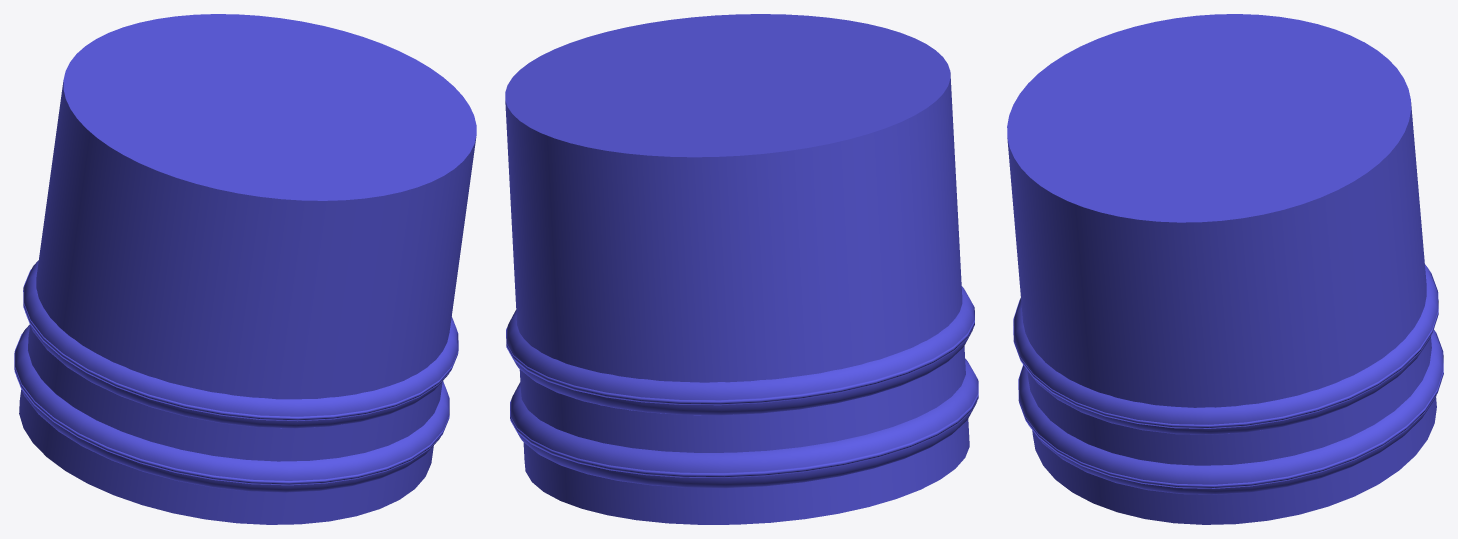
File: bombilla184.obj
3 renders of one model, left to right at view 1: azimuth 30°, elevation 25°; view 2: azimuth 150°, elevation 25°; view 3: azimuth 270°, elevation 25°, orthographic. The views are drawn at different scales.
Visible parts, largest first — view 1: Cylinder001, Cylinder004, Cylinder003, Cylinder002, Cylinder006; view 2: Cylinder001, Cylinder004, Cylinder003, Cylinder006, Cylinder002; view 3: Cylinder001, Cylinder004, Cylinder002, Cylinder003, Cylinder006.
Boxes of the visible parts, <box> form: Cylinder001: <box>36,14,476,399</box>; Cylinder004: <box>14,324,449,492</box>; Cylinder003: <box>28,325,442,461</box>; Cylinder002: <box>23,260,458,428</box>; Cylinder006: <box>19,390,433,524</box>; Cylinder001: <box>505,14,962,382</box>; Cylinder004: <box>510,359,978,488</box>; Cylinder003: <box>519,346,965,452</box>; Cylinder006: <box>523,419,969,524</box>; Cylinder002: <box>506,286,974,415</box>; Cylinder001: <box>1007,14,1426,407</box>; Cylinder004: <box>1018,330,1443,494</box>; Cylinder002: <box>1013,264,1438,434</box>; Cylinder003: <box>1027,337,1431,465</box>; Cylinder006: <box>1032,397,1436,524</box>.
Bounding box in the file's own units: 74.91 × 67.55 × 73.75.
